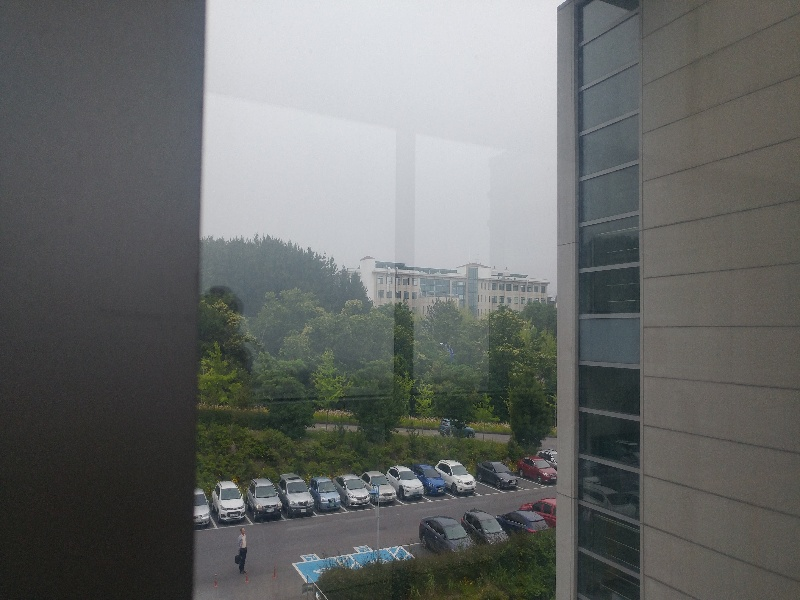College of Medicine: (360, 253, 550, 322), (368, 262, 544, 313)
